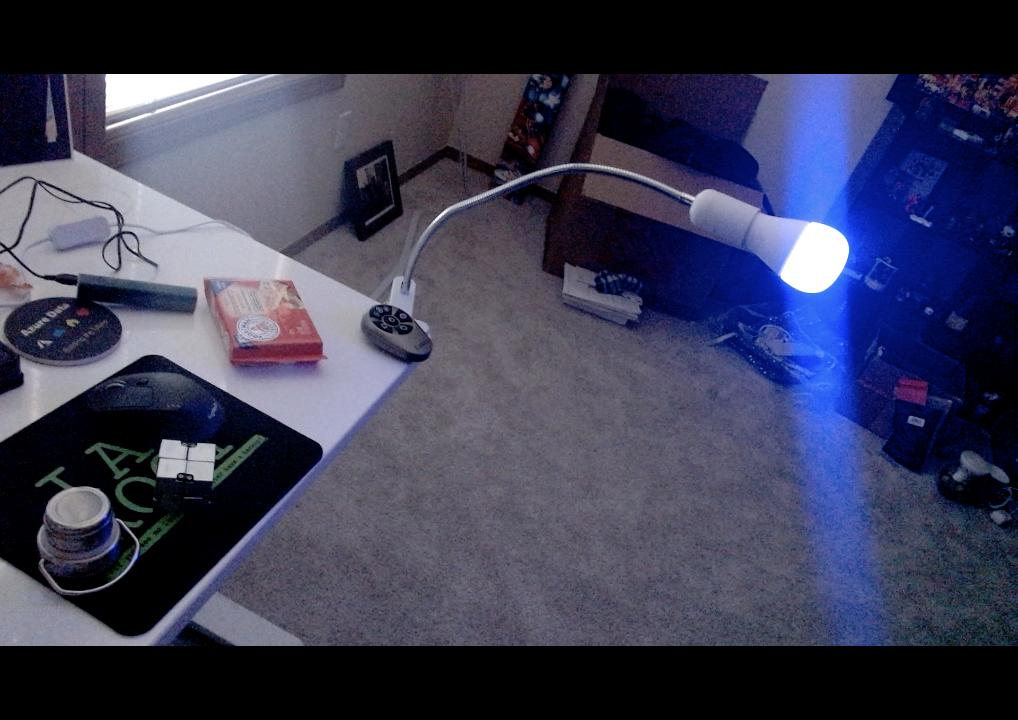TubeLight: (745, 210, 849, 294)
